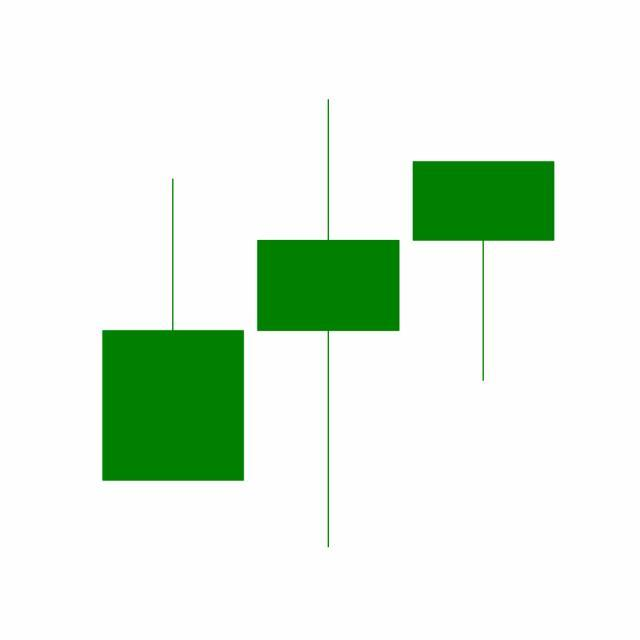Spinning Top: (250, 95, 407, 553)
